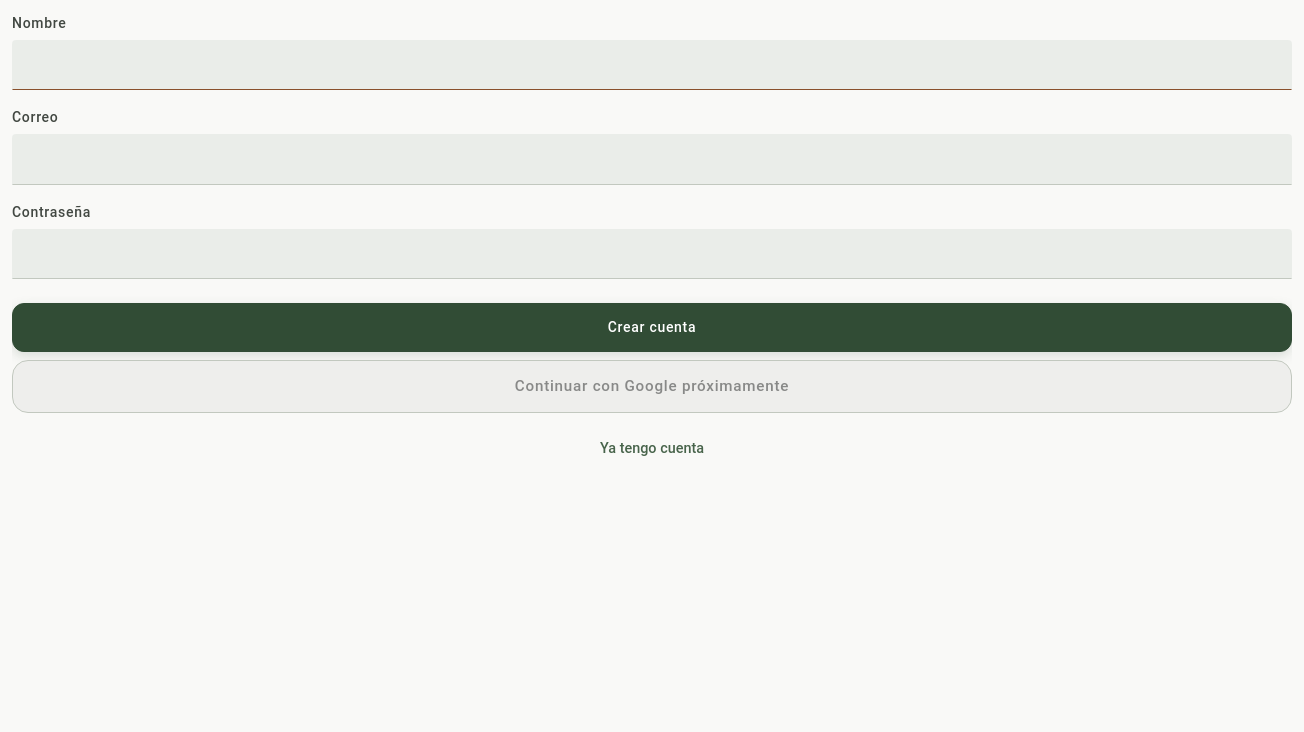
Scenario: RegisterForm › displays validation errors before submitting invalid registration input
Type "tuli@example.com" into the field labelled "Correo" at (652, 160), box [12,134,1292,185]
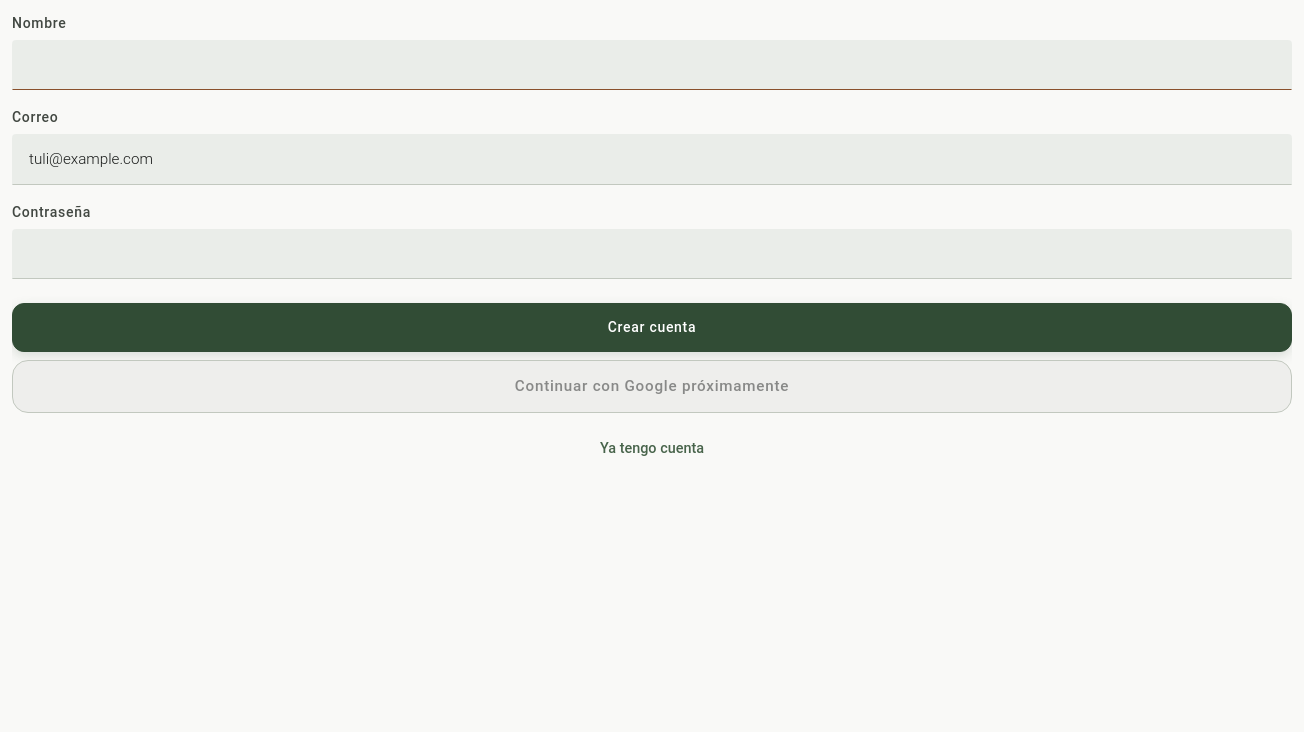
Type "corta" into the password field labelled "Contraseña" at (652, 254), box [12,229,1292,279]
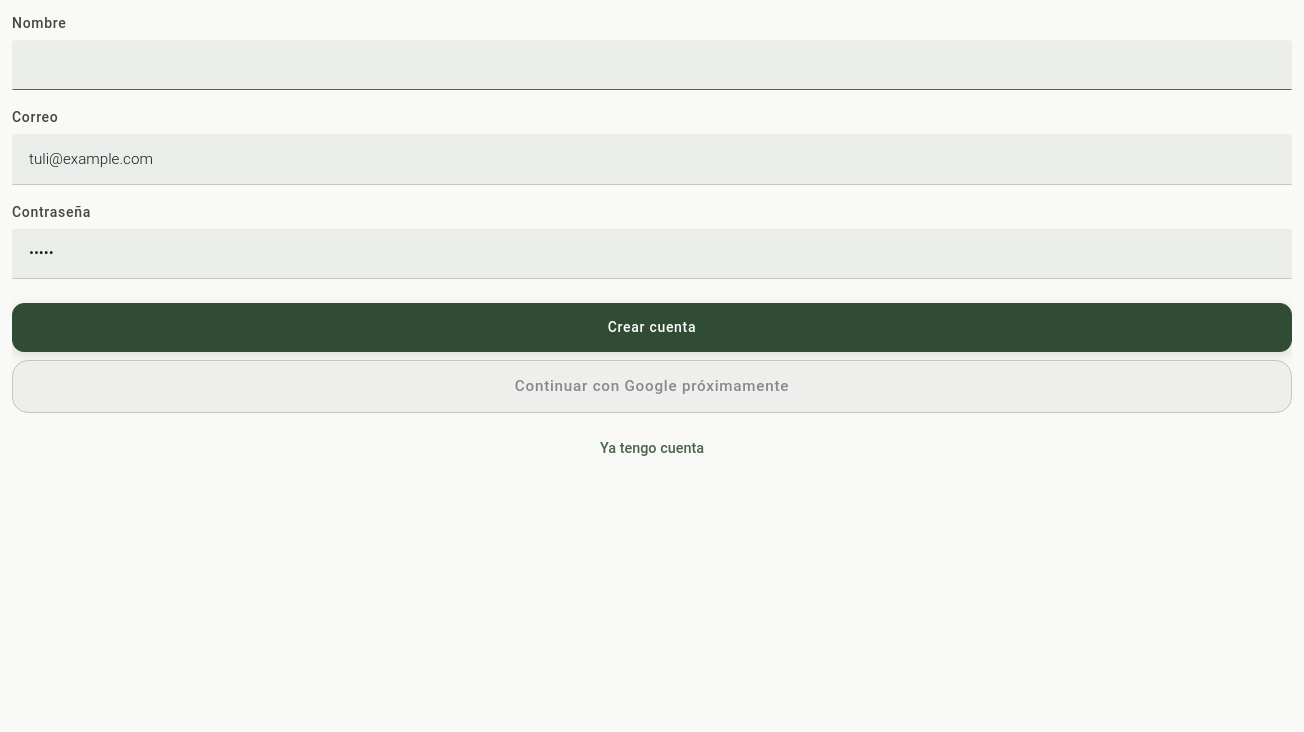
Click the button "Crear cuenta" at (652, 328), box [12,303,1292,352]
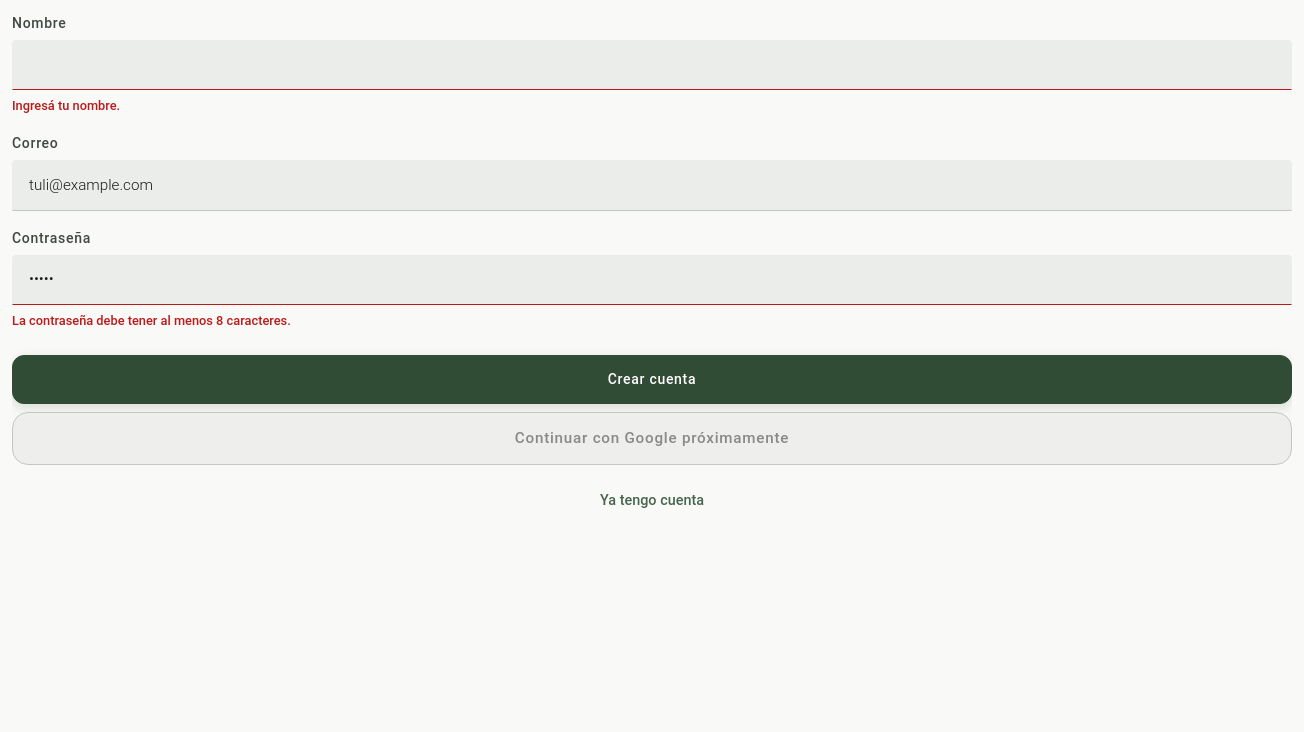
Result: the text "Ingresá tu nombre." is shown at [12,98,120,113]
Result: the text "La contraseña debe tener al menos 8 caracteres." is shown at [12,313,291,328]
